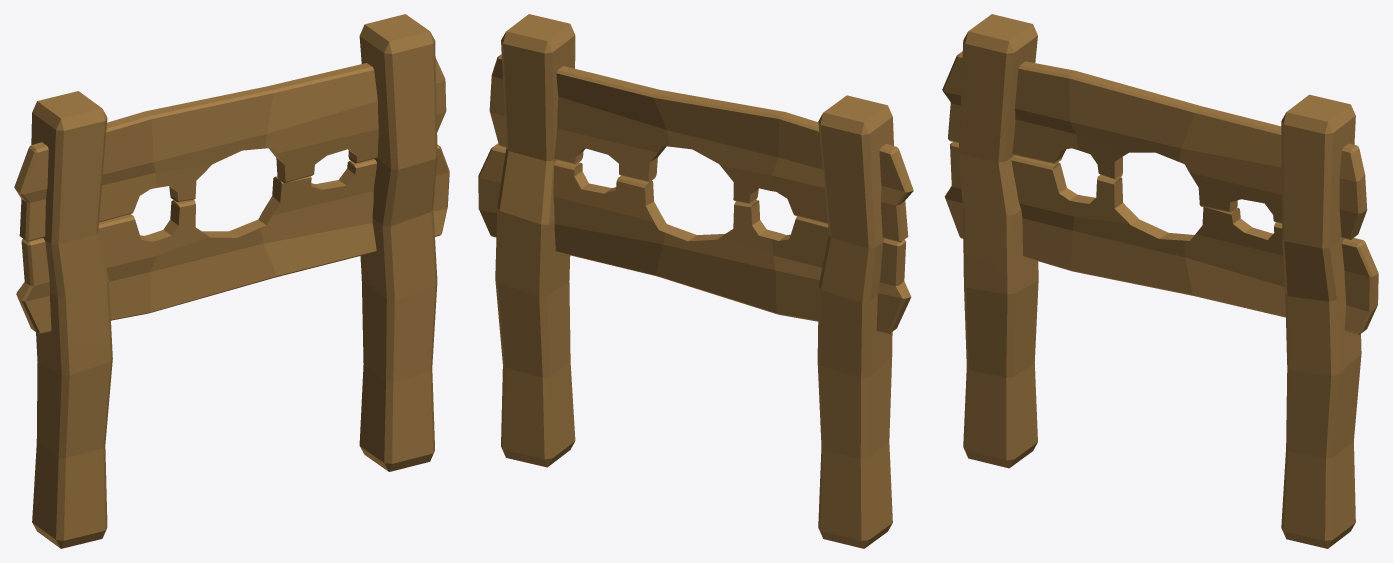
Rendered from Schandpaal.fbx.
The picture shows the model from 3 angles, left to right: view 1: azimuth 30°, elevation 25°; view 2: azimuth 150°, elevation 25°; view 3: azimuth 330°, elevation 25°; orthographic projection.
Visible parts, largest first — view 1: Schandpaal; view 2: Schandpaal; view 3: Schandpaal.
Part boxes in pixels (bbox=[...]): Schandpaal: bbox=[14, 14, 449, 548]; Schandpaal: bbox=[478, 14, 913, 548]; Schandpaal: bbox=[942, 14, 1378, 548].
Size of the model in its own units: 151 by 144 by 21.96.
